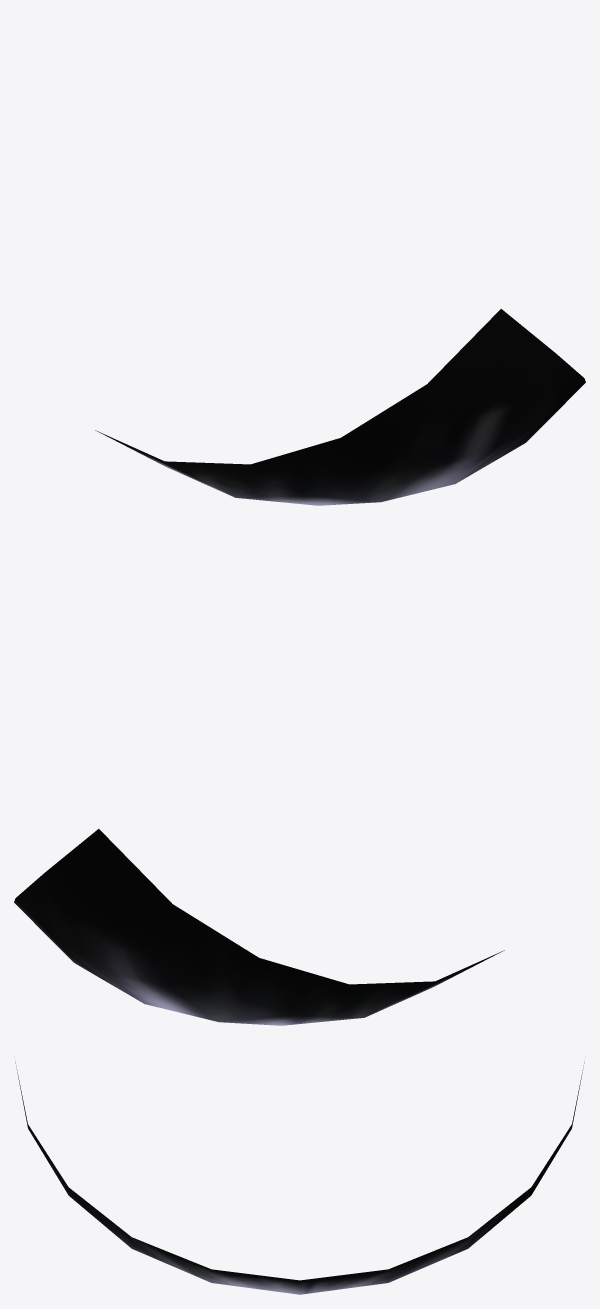
Rendered from Protect02.glb.
The picture shows the model from 3 angles, top to bottom: view 1: azimuth 30°, elevation 25°; view 2: azimuth 150°, elevation 25°; view 3: azimuth 270°, elevation 25°; orthographic projection. The views are drawn at different scales.
Parts seen in each view (by area): view 1: model_Protect02; view 2: model_Protect02; view 3: model_Protect02.
Boxes of the visible parts, x1=… form: model_Protect02: x1=95, y1=309, x2=585, y2=505; model_Protect02: x1=14, y1=829, x2=504, y2=1025; model_Protect02: x1=15, y1=1063, x2=584, y2=1294.
Size of the model in its own units: 1.18 by 0.8207 by 1.97.
Materials: 1 (1 with a texture image).
